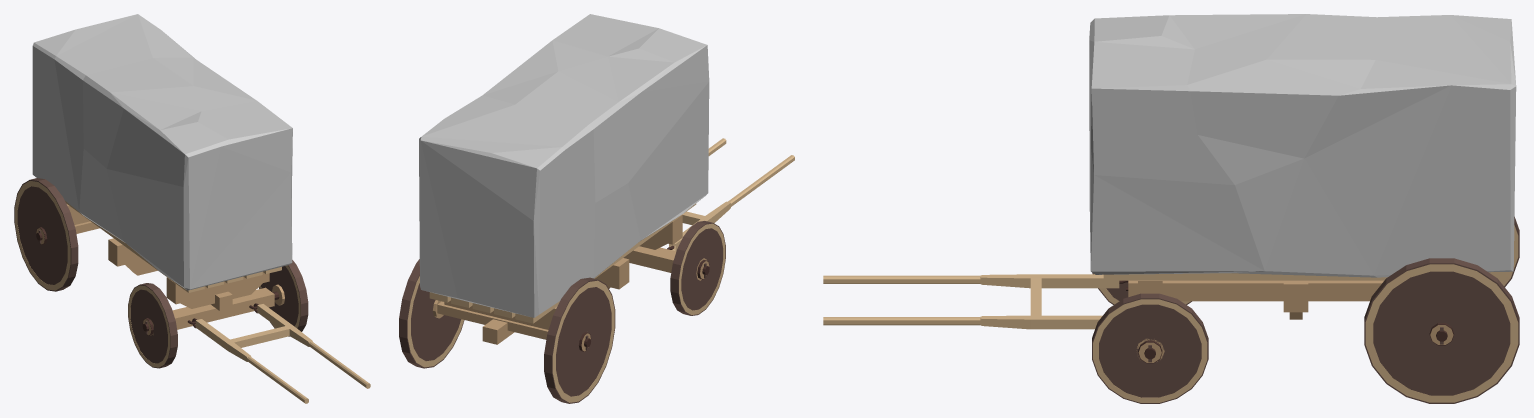
File: HorseCart.fbx
The picture shows the model from 3 angles, left to right: view 1: azimuth 30°, elevation 25°; view 2: azimuth 150°, elevation 25°; view 3: azimuth 270°, elevation 25°; orthographic projection. The views are drawn at different scales.
Parts seen in each view (by area): view 1: Load.001, WheelRR.COL, RealAxle, WheelRR, WheelFR.COL, FrontAxle, WheelFR, HandleR.001, WheelFL.COL, HandleL.001, WheelFL, Handle (+1 smaller); view 2: Load.001, WheelRR.COL, RealAxle, WheelRL.COL, WheelFR.COL, WheelFR, WheelRL, WheelRR, HorseCart, FrontAxle, HandleR.001, BottomBeam; view 3: Load.001, WheelRL.COL, WheelFL.COL, WheelRL, BottomBeam, WheelFL, HandleR.001, HandleL.001, HorseCart, RealAxle.
Part boxes in pixels (x1=…): Load.001: x1=32, y1=14, x2=292, y2=290; WheelRR.COL: x1=17, y1=178, x2=67, y2=284; RealAxle: x1=36, y1=204, x2=269, y2=308; WheelRR: x1=14, y1=179, x2=78, y2=291; WheelFR.COL: x1=130, y1=289, x2=167, y2=363; FrontAxle: x1=142, y1=287, x2=279, y2=334; WheelFR: x1=128, y1=283, x2=177, y2=368; HandleR.001: x1=195, y1=319, x2=308, y2=403; WheelFL.COL: x1=261, y1=266, x2=298, y2=326; HandleL.001: x1=257, y1=304, x2=370, y2=388; WheelFL: x1=259, y1=260, x2=308, y2=336; Handle: x1=230, y1=326, x2=289, y2=347; Load.001: x1=419, y1=14, x2=709, y2=317; WheelRR.COL: x1=544, y1=277, x2=611, y2=403; RealAxle: x1=437, y1=214, x2=682, y2=350; WheelRL.COL: x1=399, y1=261, x2=461, y2=368; WheelFR.COL: x1=681, y1=228, x2=722, y2=310; WheelFR: x1=670, y1=221, x2=725, y2=315; WheelRL: x1=399, y1=259, x2=464, y2=368; WheelRR: x1=552, y1=278, x2=615, y2=403; HorseCart: x1=429, y1=203, x2=696, y2=323; FrontAxle: x1=623, y1=246, x2=709, y2=277; HandleR.001: x1=669, y1=155, x2=794, y2=251; BottomBeam: x1=482, y1=319, x2=514, y2=344; Load.001: x1=1089, y1=14, x2=1516, y2=277; WheelRL.COL: x1=1364, y1=258, x2=1519, y2=395; WheelFL.COL: x1=1099, y1=304, x2=1201, y2=397; WheelRL: x1=1364, y1=258, x2=1519, y2=403; BottomBeam: x1=1128, y1=280, x2=1383, y2=301; WheelFL: x1=1092, y1=293, x2=1208, y2=403; HandleR.001: x1=823, y1=274, x2=1119, y2=288; HandleL.001: x1=823, y1=315, x2=1102, y2=329; HorseCart: x1=1103, y1=272, x2=1505, y2=280; RealAxle: x1=1138, y1=280, x2=1447, y2=344.
Size of the model in its own units: 2.39 by 3.53 by 7.16.
